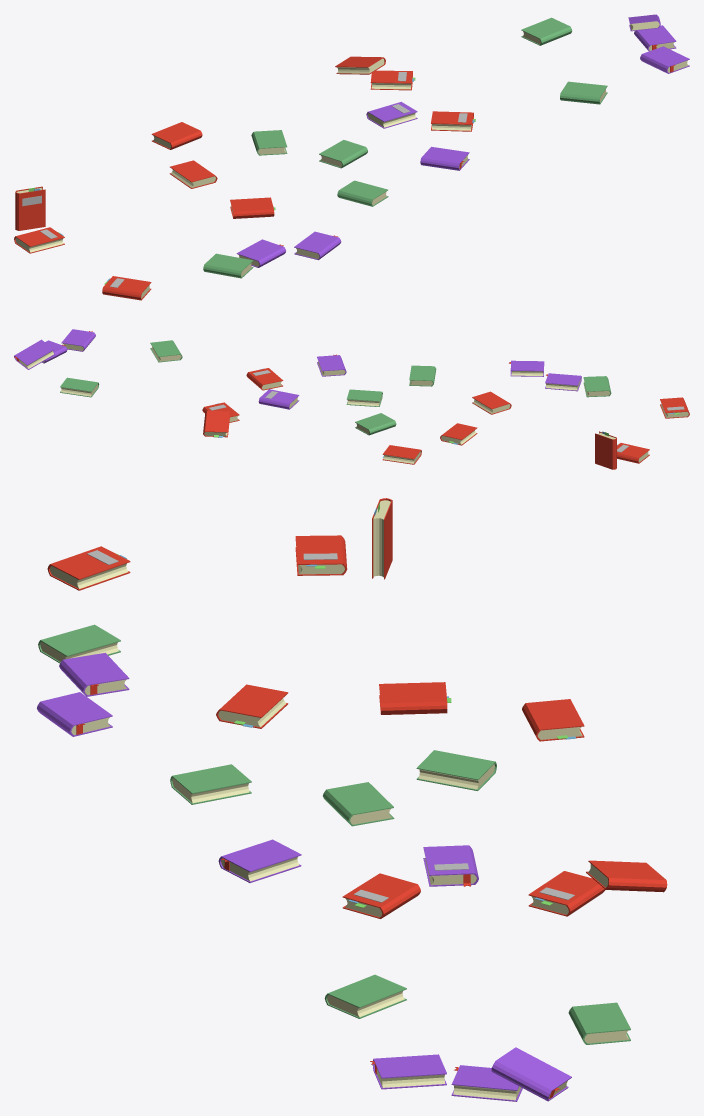
Rendered from booksPile_03.fbx.
3 renders of one model, top to bottom at view 1: azimuth 30°, elevation 25°; view 2: azimuth 150°, elevation 25°; view 3: azimuth 270°, elevation 25°, orthographic. The views are drawn at different scales.
Visible parts, largest first — view 1: book_01.831; view 2: book_01.831; view 3: book_01.831.
Part boxes in pixels (<box>): book_01.831: <box>14,14,689,300</box>; book_01.831: <box>14,329,689,469</box>; book_01.831: <box>37,498,667,1101</box>.
Bounding box in the file's own units: 597 × 32.16 × 284.
